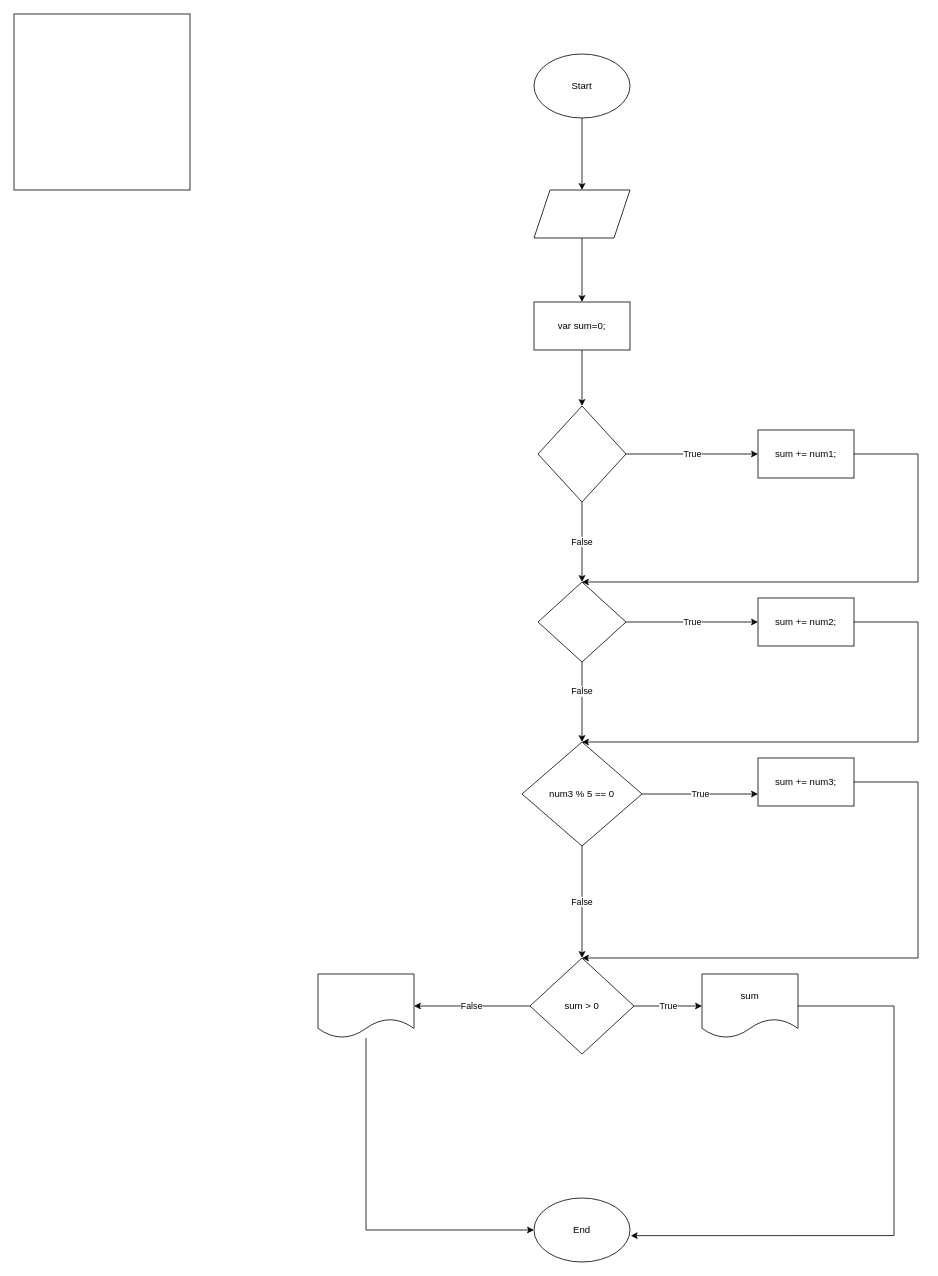
Some shapes in this 938 by 1276 pixel diagram are drawn without their labels. Here are the shapes that lost their labels. From the top down, the centre of each, then its label:
At point 101,101: "Verilmiş 3 müsbət ədəddən(rəqəmdən) 5ə bölünənlərinin cəmini tapın".
At point 581,213: "var num1; var num2; var num3;".
At point 581,453: "num1 % 5 == 0".
At point 581,621: "num2 % 5 == 0".
At point 365,1005: "Yoxdur".
